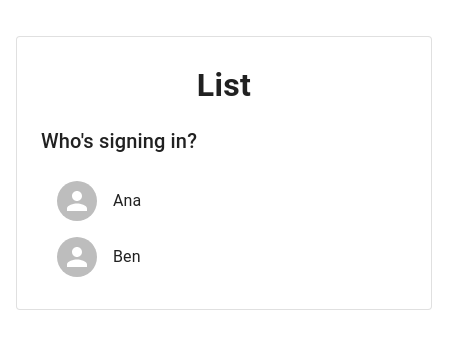
Test: LoginPage › asks for a password only after the server refuses the attempt without one
Later steps or results of the test are not shown.
Click the button "Ana".
click(99, 201)  # box [57,181,141,221]
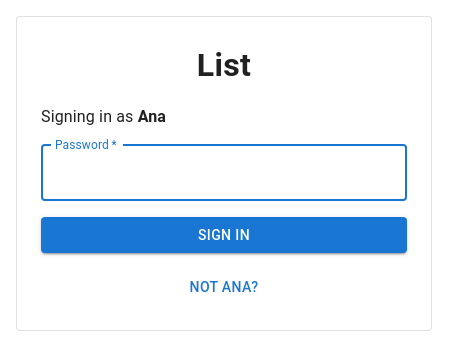
Now the password field labelled "Password *" is shown, box [41,144,407,200]
Now the text "Signing in as" is shown, box [41,106,138,126]
